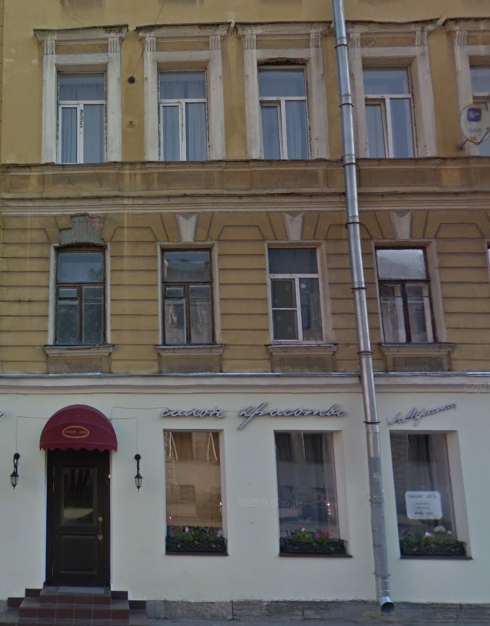door: (45, 446, 106, 590)
signboard: (159, 396, 460, 433)
window: (388, 430, 457, 537), (275, 432, 338, 542), (167, 430, 222, 552), (268, 243, 324, 344), (375, 242, 429, 343), (361, 60, 417, 157), (161, 244, 213, 346), (54, 246, 104, 345), (56, 72, 104, 164), (261, 64, 308, 155), (159, 67, 205, 159)
